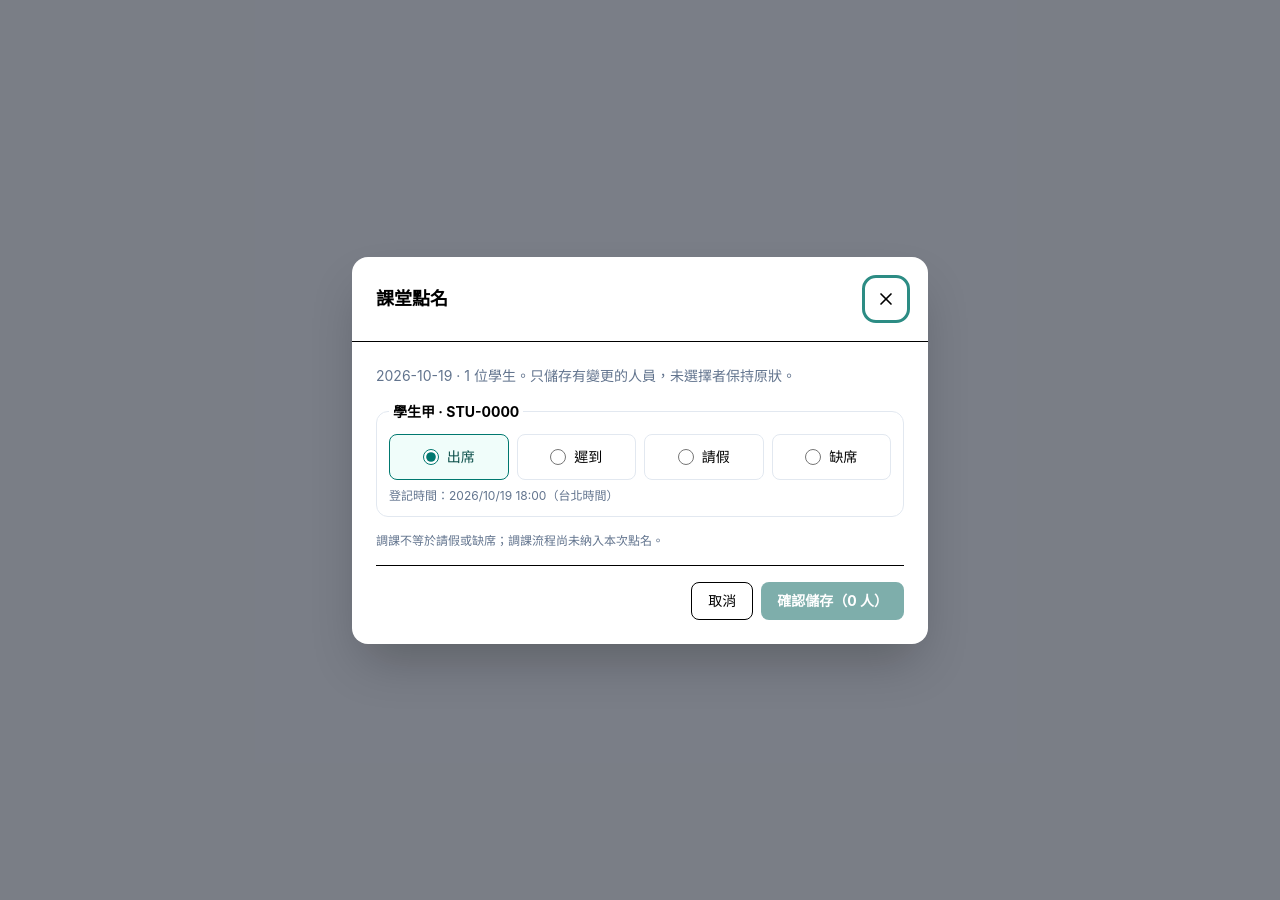
attendance dialog › requires a reason for corrections, and reverting the draft submits no changes
Click the radio button labelled "請假" at (686, 456), box 678,448 -> 694,464
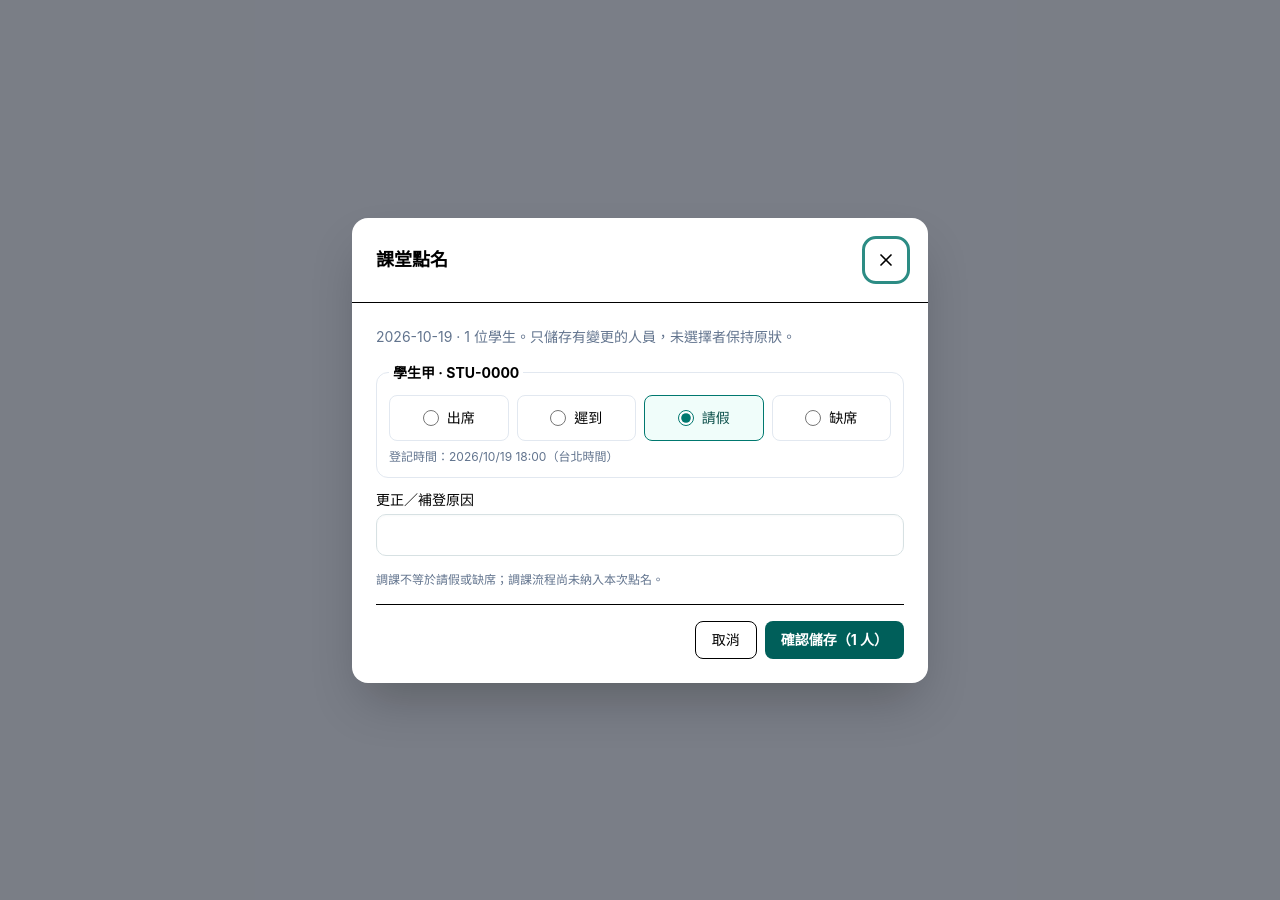
Click the radio button labelled "出席" at (431, 418), box 423,410 -> 439,426
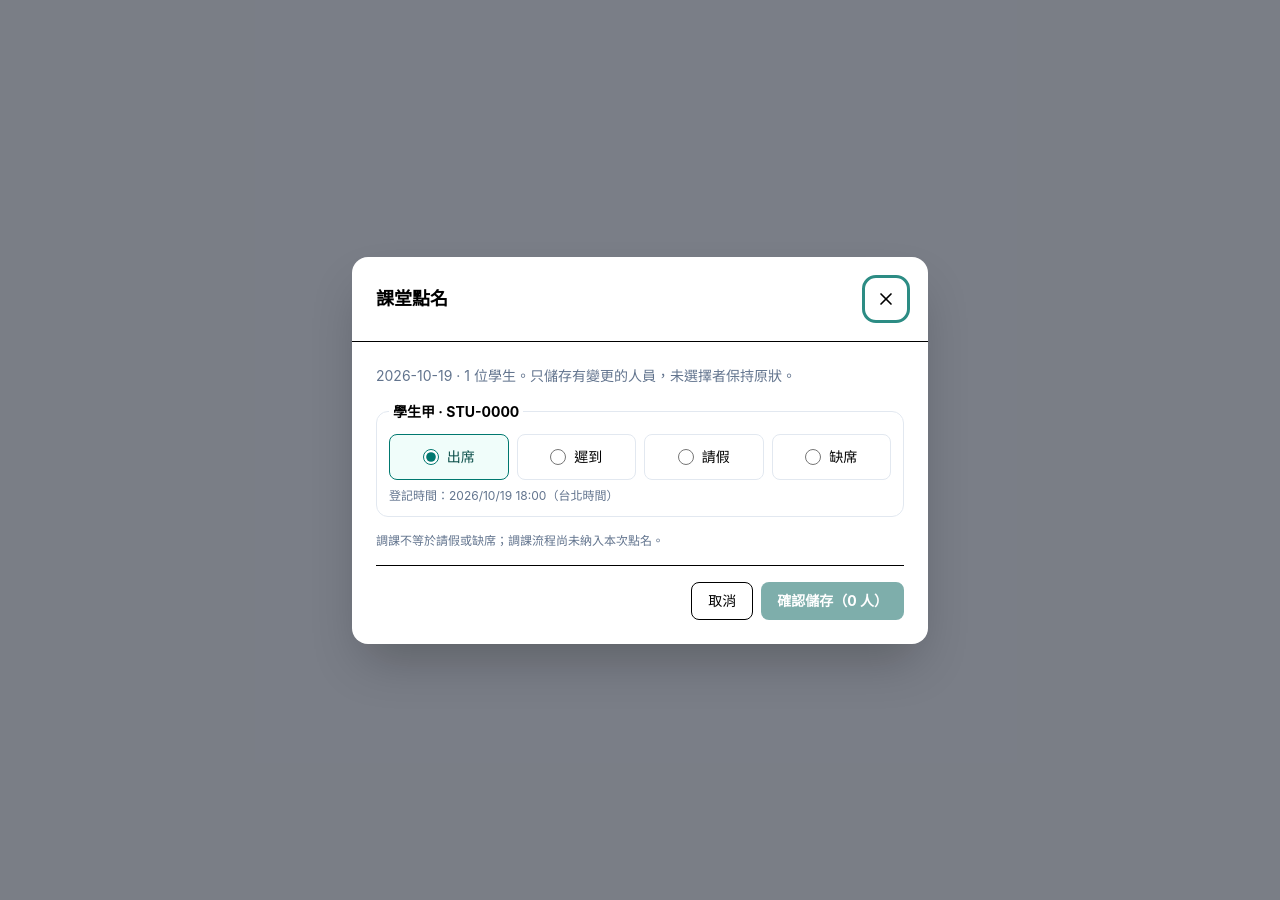
expect the button "確認儲存（0 人）" is disabled: met, box 761,582 -> 904,620
